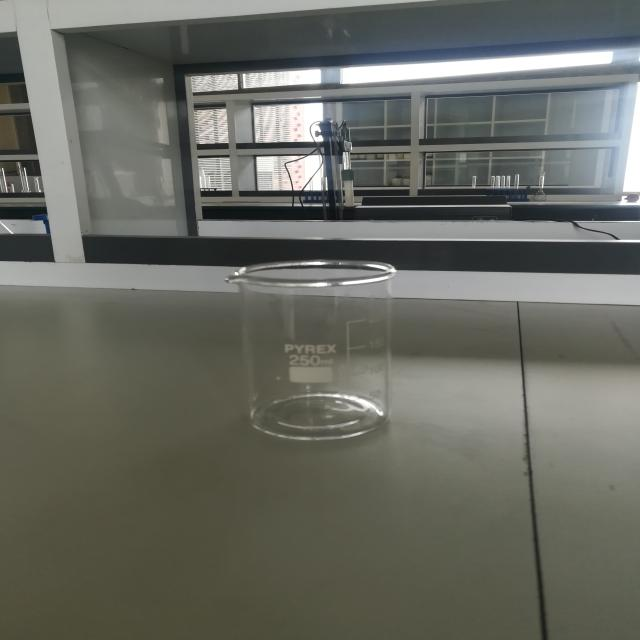Beaker: (200, 229, 458, 484)
